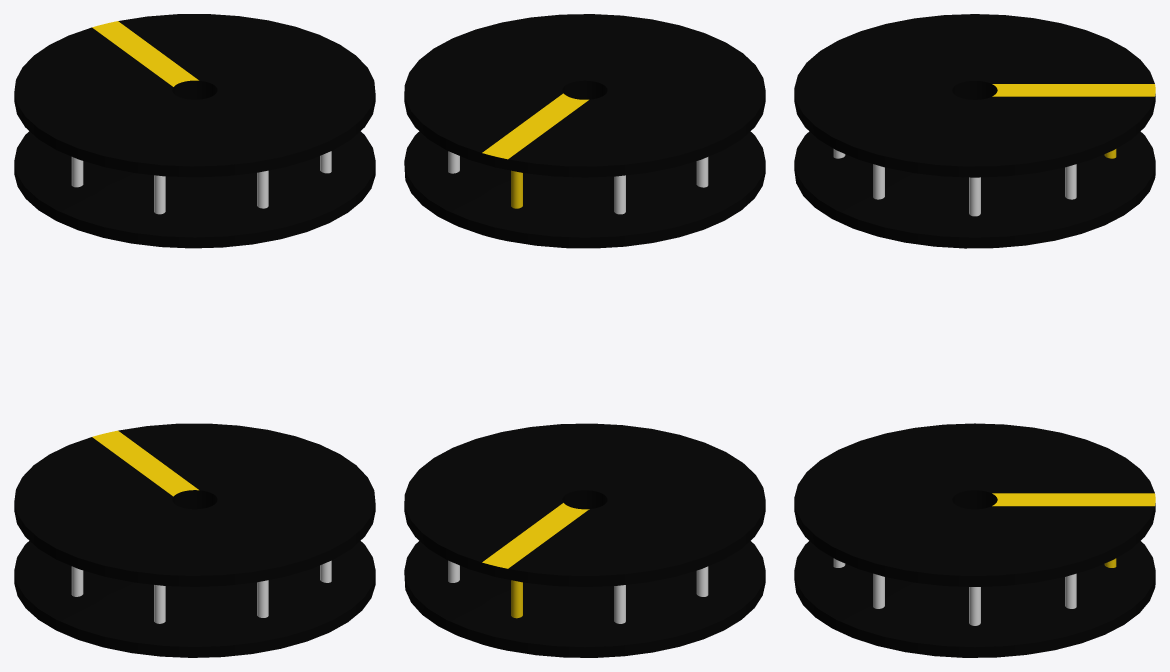
The picture shows the model from 3 angles, left to right: view 1: azimuth 30°, elevation 25°; view 2: azimuth 150°, elevation 25°; view 3: azimuth 270°, elevation 25°; orthographic projection.
Visible parts, largest first — view 1: SOLID (×2); view 2: SOLID (×2); view 3: SOLID (×2).
Boxes of the visible parts, x1,y1,x2,y2 form: SOLID (×2): (14,14,375,657); SOLID (×2): (404,14,765,657); SOLID (×2): (794,14,1155,657).
Bounding box in the file's own units: 0.1524 × 0.2287 × 0.1524.
